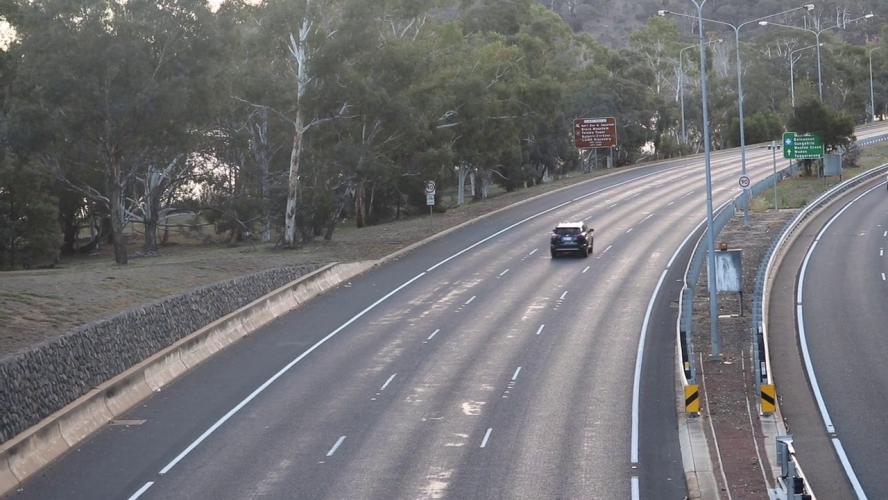licence: (4, 7, 881, 496)
